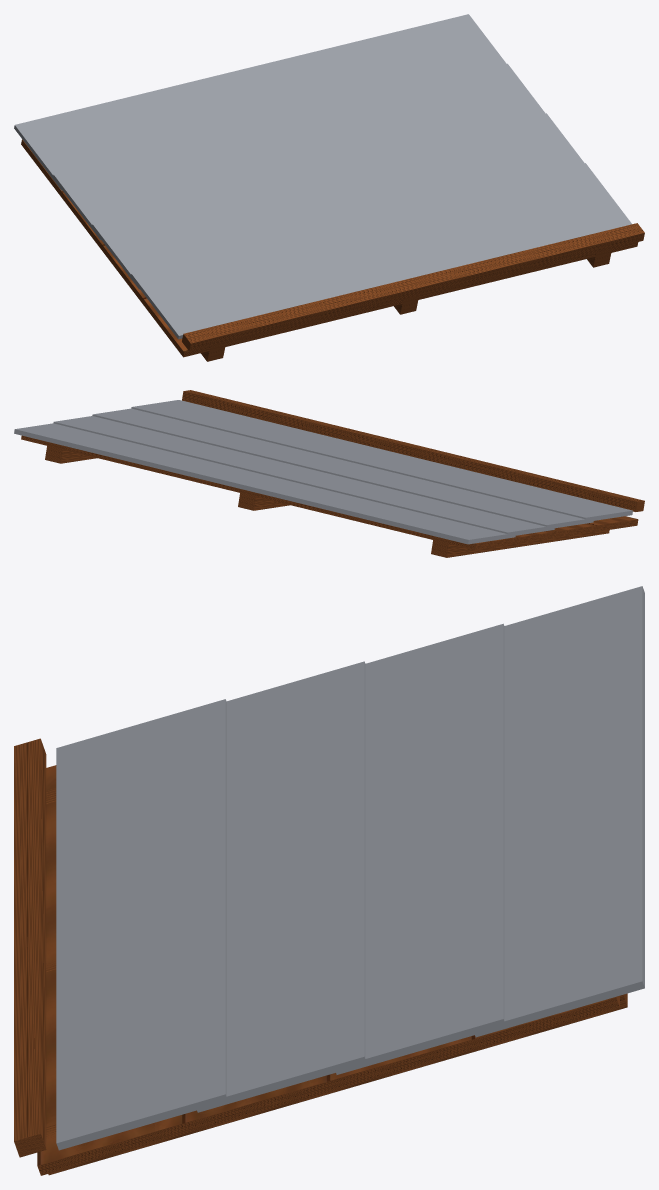
File: blacksmith-forge-and-armoury-blacksmith-forge-and-armo-340f5530__37558.glb
3 views of the same model, one above another, from view 1: azimuth 30°, elevation 25°; view 2: azimuth 150°, elevation 25°; view 3: azimuth 270°, elevation 25° (orthographic). The views are drawn at different scales.
Visible parts, largest first — view 1: blacksmith-forge-and-armoury-lean-to-roof-panel; view 2: blacksmith-forge-and-armoury-lean-to-roof-panel; view 3: blacksmith-forge-and-armoury-lean-to-roof-panel.
Part boxes in pixels (x1,y1,x2,y2): blacksmith-forge-and-armoury-lean-to-roof-panel: (14, 14, 644, 361); blacksmith-forge-and-armoury-lean-to-roof-panel: (14, 390, 644, 557); blacksmith-forge-and-armoury-lean-to-roof-panel: (14, 586, 644, 1175).
Size of the model in its own units: 4 by 1.02 by 2.7.
Materials: 2 (1 with a texture image).
